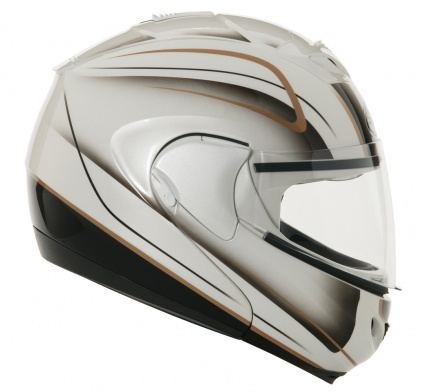helmet: (42, 24, 403, 364)
